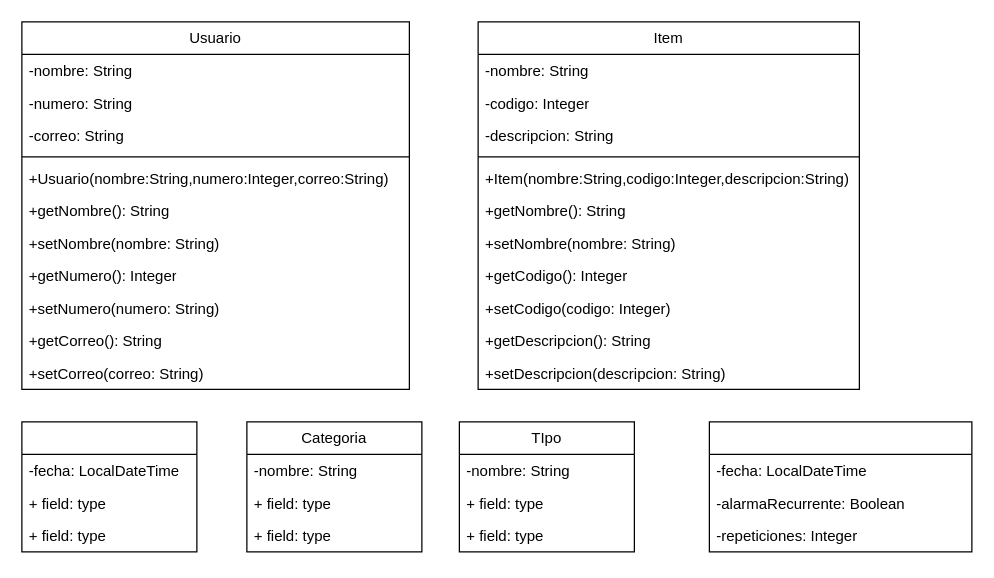
The diagram is 994 pixels wide and 578 high, and some of its shapes have lost their labels. Here are the shapes that lost their labels. From the top down, the box of each, then its label:
(21, 421, 197, 552): Prestamo
(708, 421, 972, 552): Alerta
